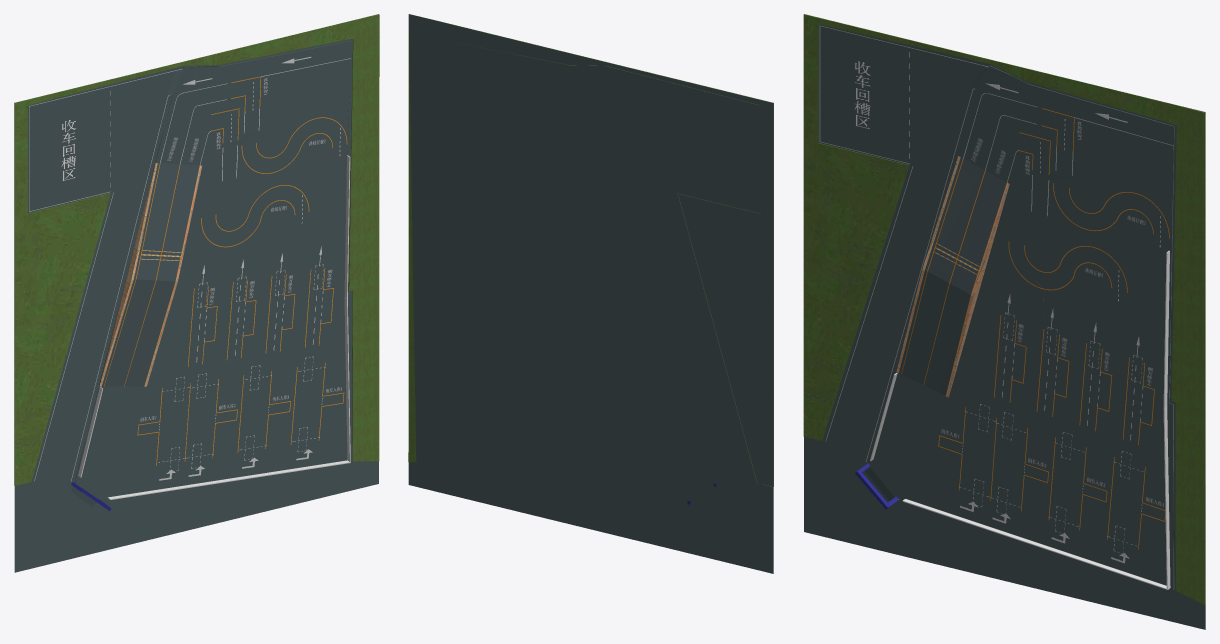
File: field.gltf
The picture shows the model from 3 angles, left to right: view 1: azimuth 30°, elevation 25°; view 2: azimuth 150°, elevation 25°; view 3: azimuth 330°, elevation 25°; orthographic projection. The views are drawn at different scales.
Visible parts, largest first — view 1: exam-ui, train-ui, green-ui, ramp-1-ui, font-ui, rail, reversestorage-1-ui, reversestorage-2-ui, reversestorage-3-ui, reversestorage-4-ui, sideparking-1-ui, sideparking-3-ui (+6 smaller); view 2: train-ui, green-ui; view 3: exam-ui, train-ui, green-ui, ramp-1-ui, font-ui, rail, reversestorage-1-ui, reversestorage-2-ui, reversestorage-3-ui, reversestorage-4-ui, sideparking-1-ui, sideparking-3-ui (+6 smaller).
Part boxes in pixels (x1=…): exam-ui: x1=75, y1=40, x2=351, y2=500; train-ui: x1=14, y1=14, x2=378, y2=572; green-ui: x1=14, y1=14, x2=379, y2=485; ramp-1-ui: x1=99, y1=163, x2=201, y2=386; font-ui: x1=58, y1=76, x2=342, y2=422; rail: x1=78, y1=155, x2=350, y2=499; reversestorage-1-ui: x1=137, y1=383, x2=190, y2=465; reversestorage-2-ui: x1=185, y1=379, x2=237, y2=461; reversestorage-3-ui: x1=238, y1=370, x2=290, y2=453; reversestorage-4-ui: x1=291, y1=362, x2=344, y2=444; sideparking-1-ui: x1=188, y1=286, x2=217, y2=366; sideparking-3-ui: x1=266, y1=274, x2=294, y2=353; train-ui: x1=408, y1=14, x2=773, y2=573; green-ui: x1=408, y1=14, x2=773, y2=486; exam-ui: x1=870, y1=65, x2=1174, y2=590; train-ui: x1=804, y1=24, x2=1205, y2=629; green-ui: x1=803, y1=14, x2=1205, y2=604; ramp-1-ui: x1=896, y1=156, x2=1009, y2=397; font-ui: x1=851, y1=58, x2=1164, y2=507; rail: x1=870, y1=250, x2=1170, y2=589; reversestorage-1-ui: x1=938, y1=407, x2=996, y2=500; reversestorage-2-ui: x1=991, y1=417, x2=1048, y2=511; reversestorage-3-ui: x1=1049, y1=437, x2=1107, y2=529; reversestorage-4-ui: x1=1108, y1=457, x2=1165, y2=549; sideparking-1-ui: x1=994, y1=315, x2=1025, y2=402; sideparking-3-ui: x1=1080, y1=343, x2=1111, y2=431.
Size of what is drawn, in the model's own units: 87.72 by 121 by 4.43.
Materials: 24 (19 with a texture image).
